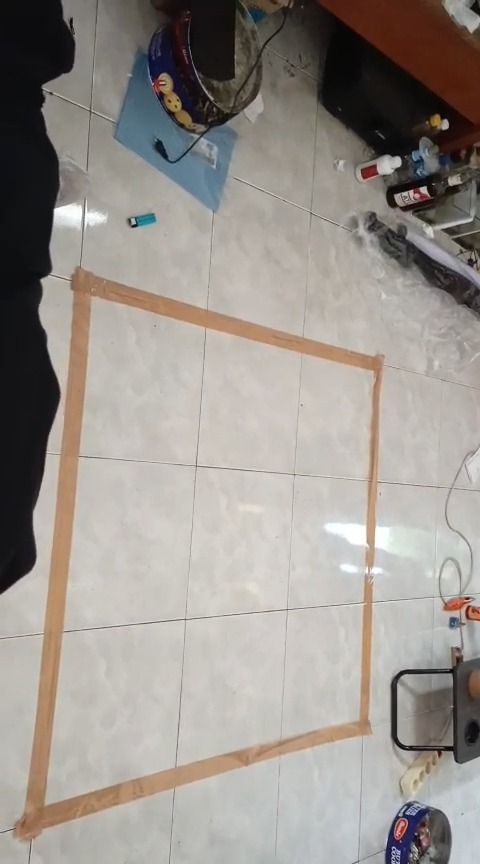floor marking: (15, 268, 382, 838)
